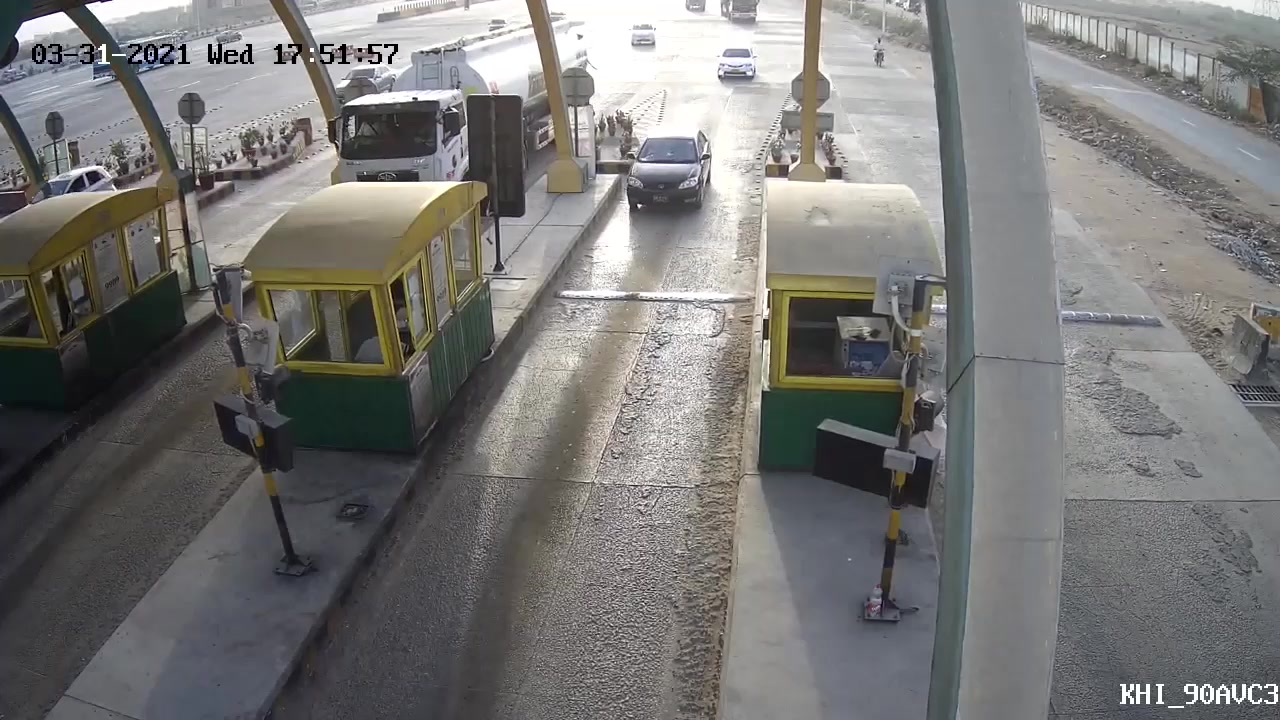F1: (614, 120, 714, 234)
